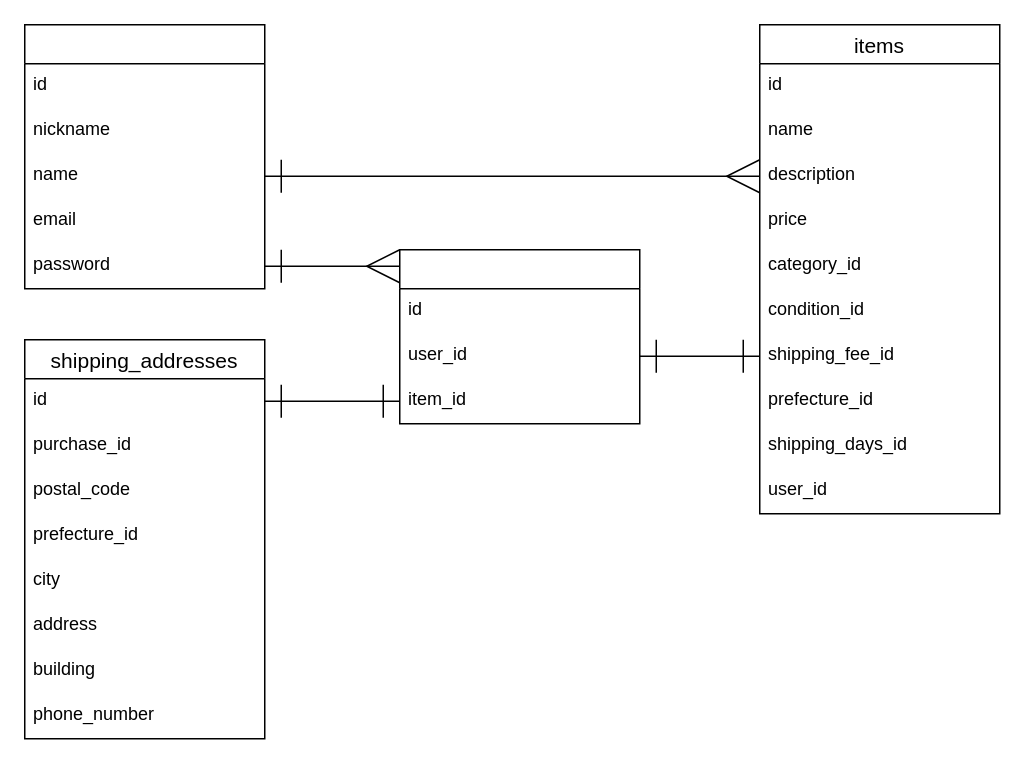
This 1025x764 diagram has some shape labels left out. The box of each missing label's shape, as (x1, y1, x2, y2) in pixels:
purchases: (398, 248, 640, 424)
users: (23, 23, 265, 289)
